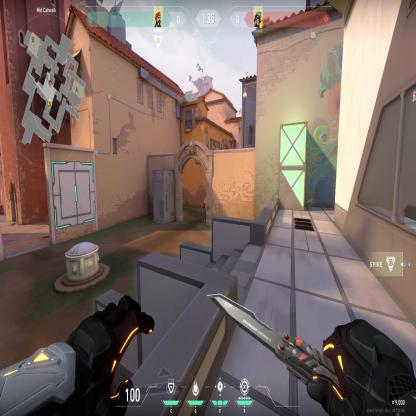enemy: (204, 195, 206, 223)
